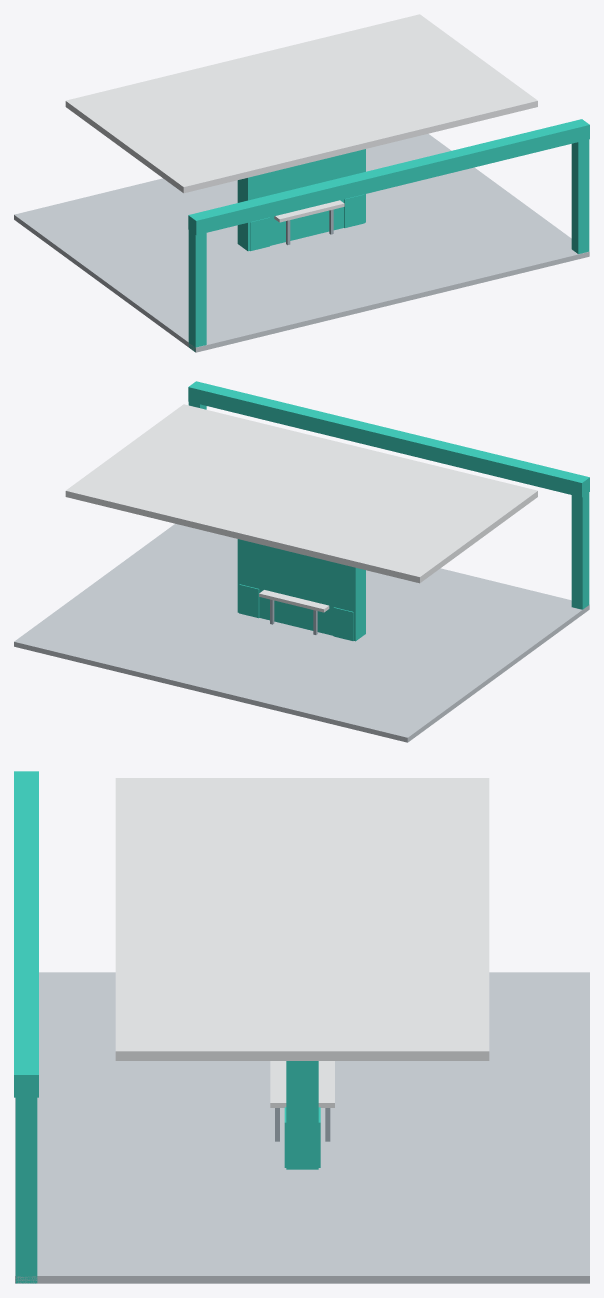
3 views of the same model, one above another, from view 1: azimuth 30°, elevation 25°; view 2: azimuth 150°, elevation 25°; view 3: azimuth 270°, elevation 25° (orthographic). The views are drawn at different scales.
Parts seen in each view (by area): view 1: Exhibition Booth Concept; view 2: Exhibition Booth Concept; view 3: Exhibition Booth Concept.
Boxes of the visible parts, x1=… form: Exhibition Booth Concept: x1=14, y1=14, x2=589, y2=352; Exhibition Booth Concept: x1=14, y1=381, x2=589, y2=742; Exhibition Booth Concept: x1=14, y1=771, x2=589, y2=1283.
Bounding box in the file's own units: 10 × 3.34 × 8.01.
